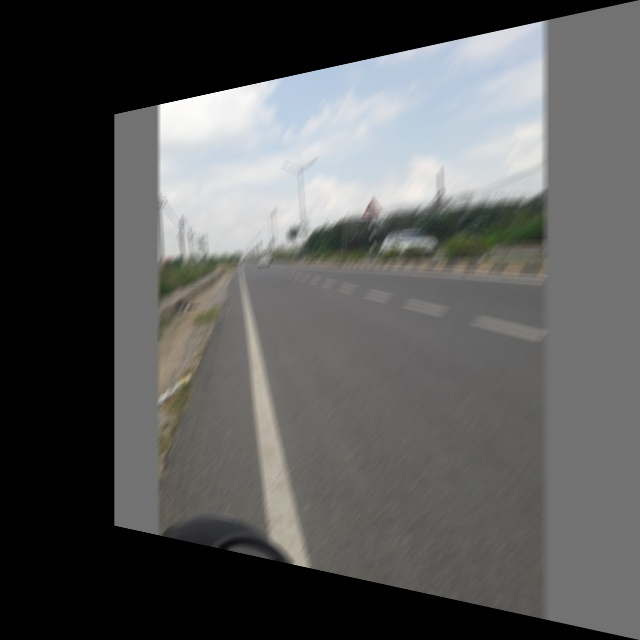Gap_in_Median: (359, 196, 382, 217)
